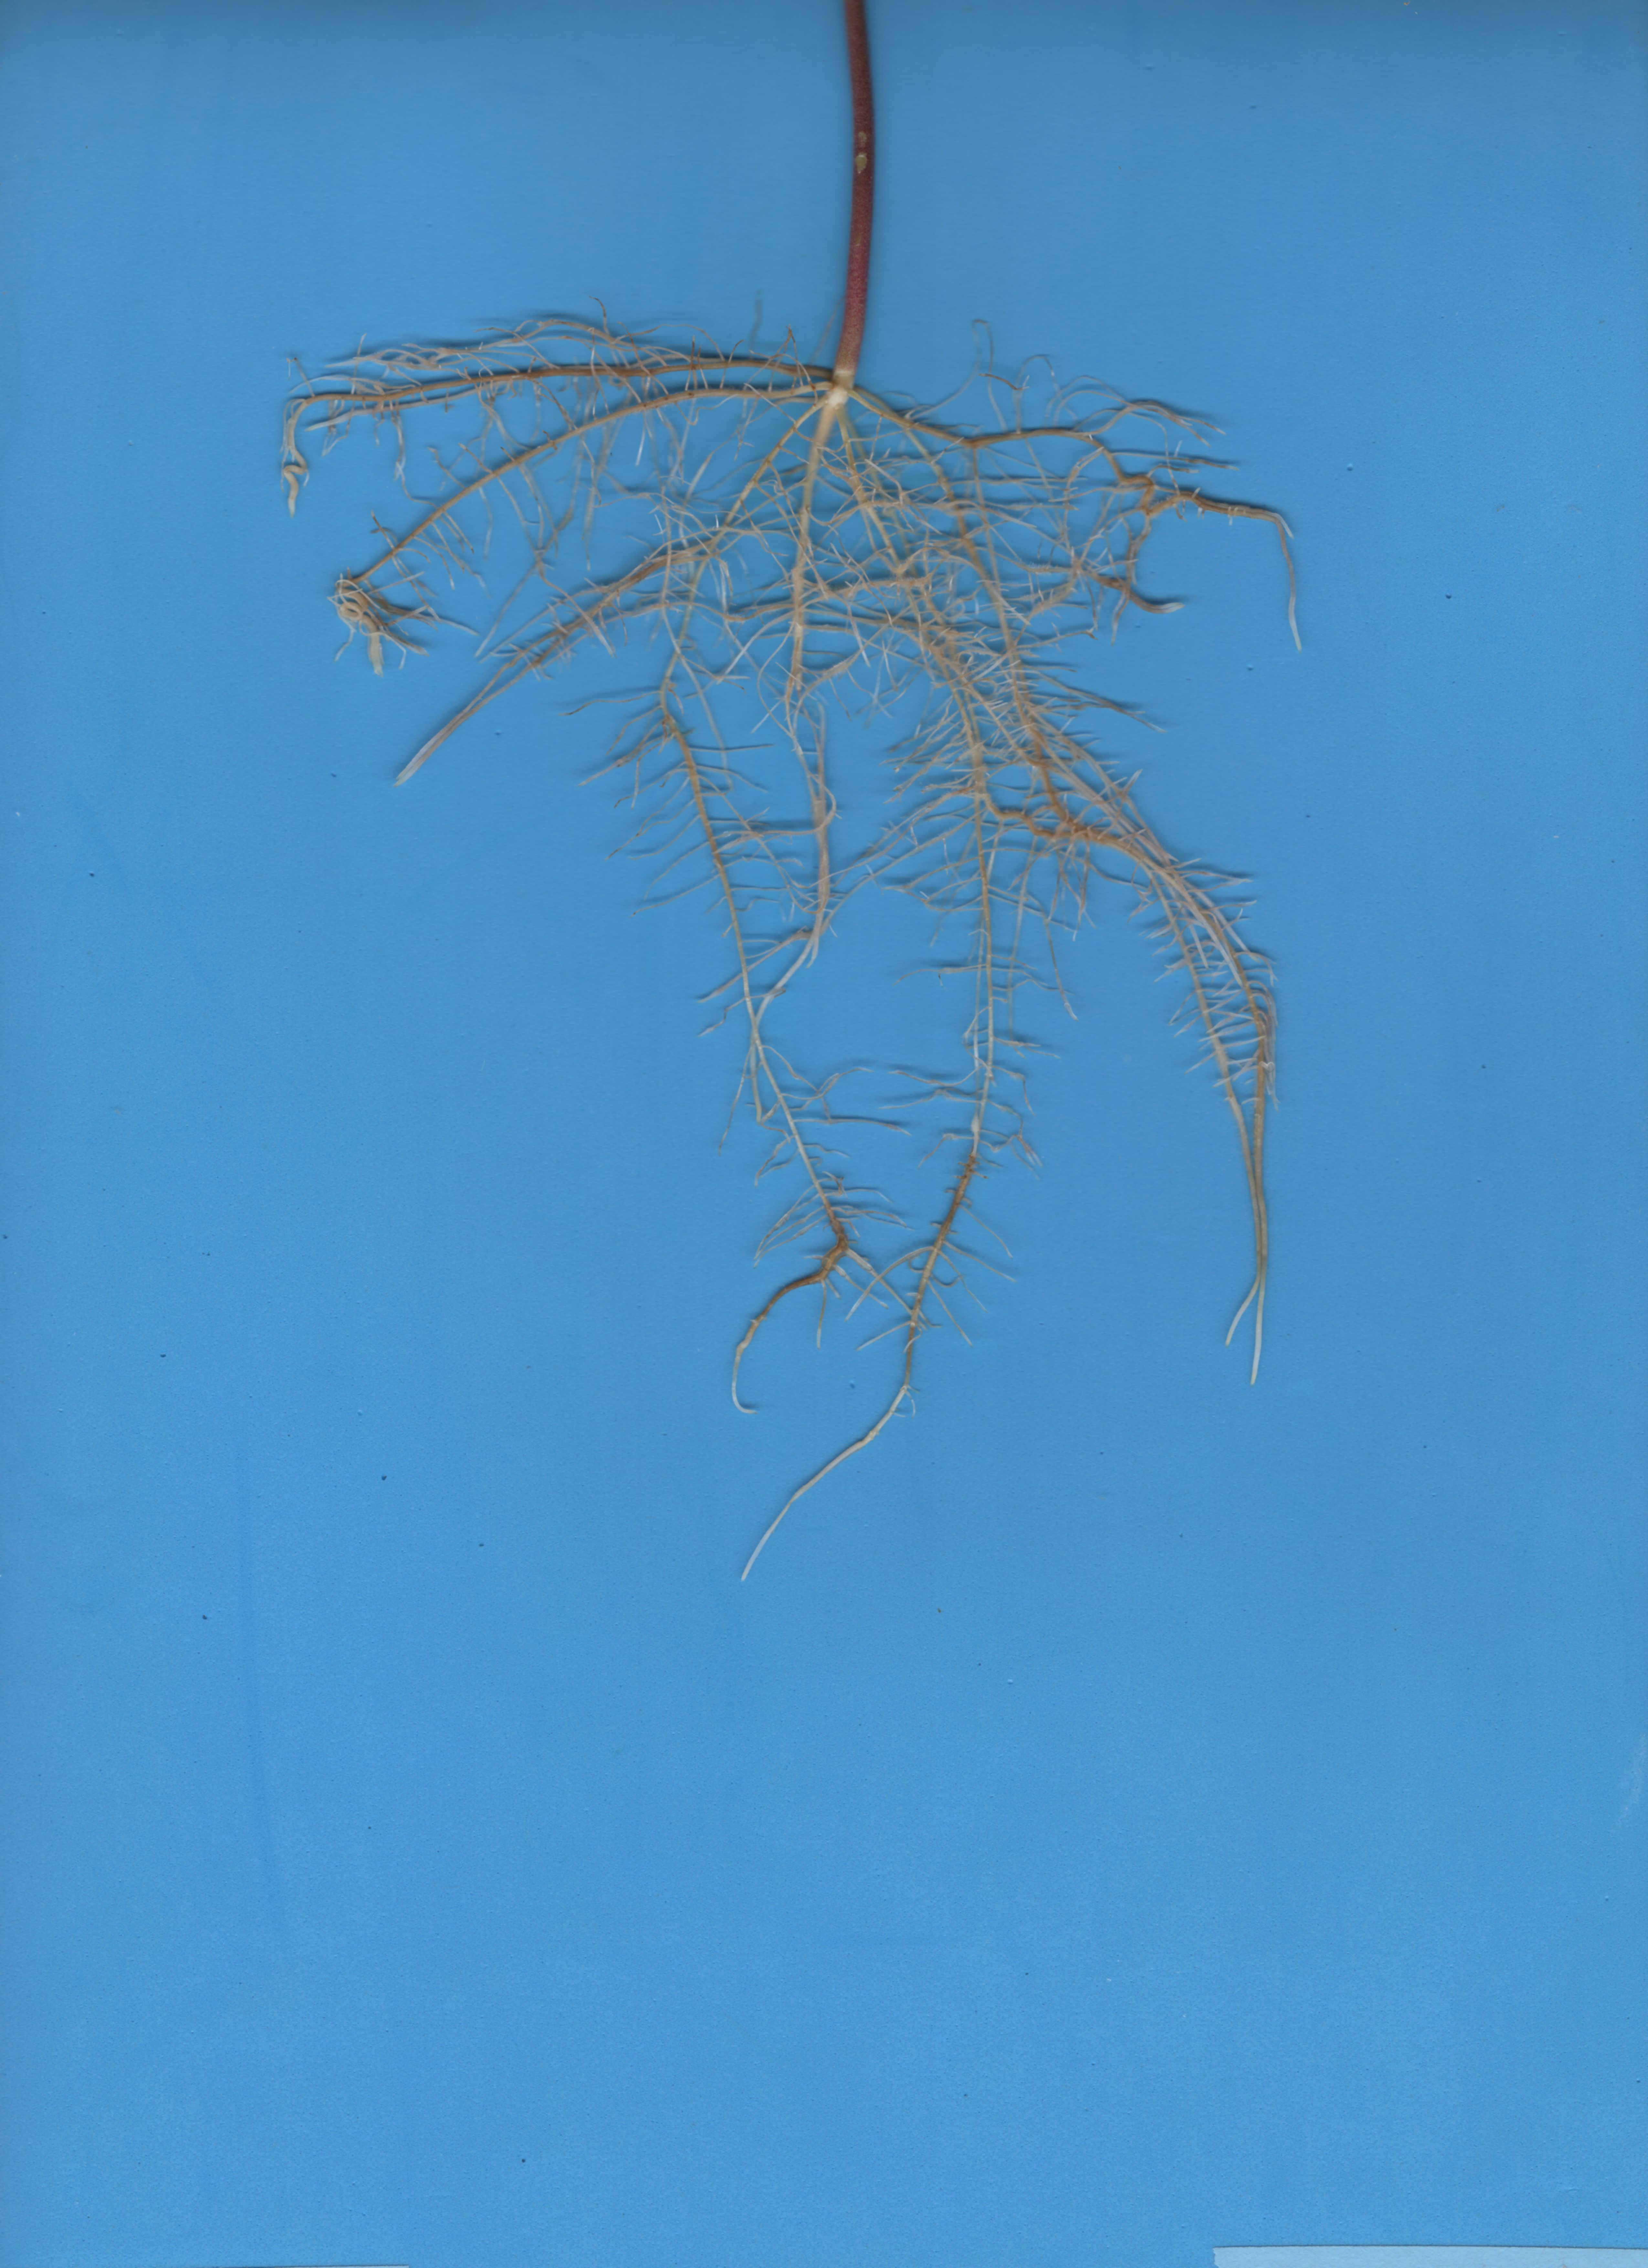ROOTDISEASE: (798, 0, 903, 401)
ROOTGOOD: (215, 317, 1453, 1491)
